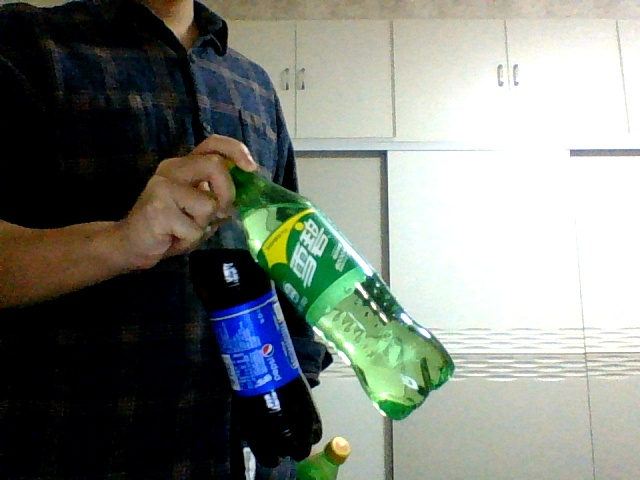Cola: (201, 191, 322, 462)
Sprite: (231, 164, 455, 420)
